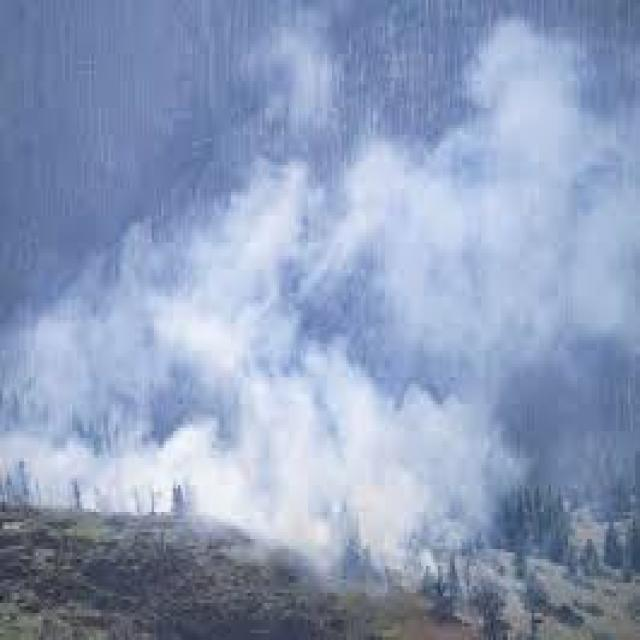Smoke: (0, 182, 565, 529), (216, 0, 415, 597), (371, 38, 640, 390)
